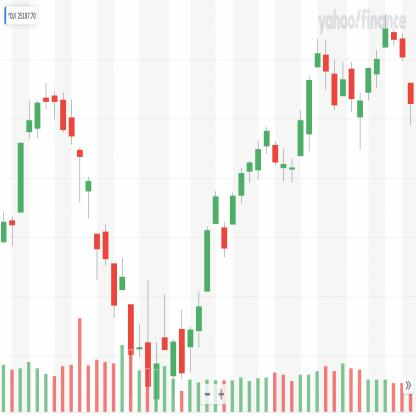Bearish: Kicker: (211, 186, 229, 262)
